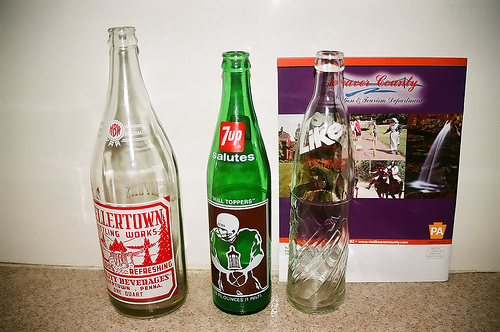emptybottle: (91, 27, 187, 320), (206, 50, 271, 315), (289, 51, 349, 312)
